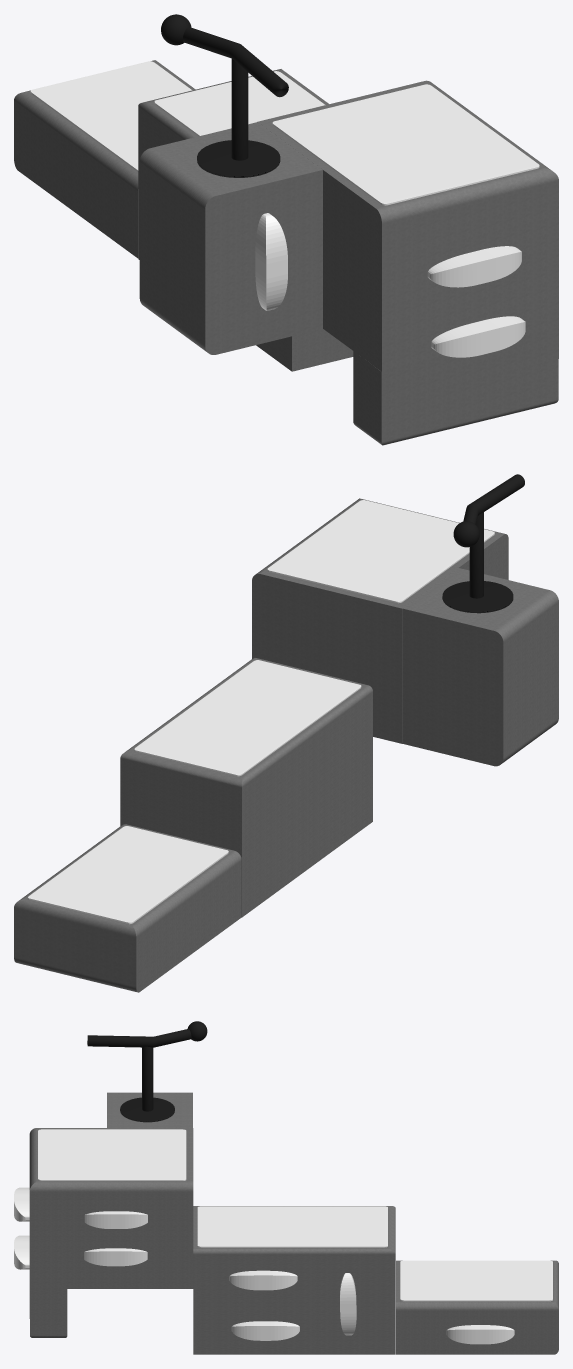
The model's file is VF appareil_tranfert_frozen-compressed.glb.
3 views of the same model, one above another, from view 1: azimuth 30°, elevation 25°; view 2: azimuth 150°, elevation 25°; view 3: azimuth 270°, elevation 25° (orthographic). The views are drawn at different scales.
Visible parts, largest first — view 1: Cube011, Cube013, Cube014, Cube012, Cube016, Cube010, Cube015, Cube025, Cube024, Cube026, Cylinder005, Cylinder006 (+2 smaller); view 2: Cube010, Cube013, Cube011, Cube012, Cube015, Cube014, Cube016, Cylinder005, Cylinder006, Cylinder004; view 3: Cube010, Cube011, Cube012, Cube015, Cube014, Cube016, Cube013, Cylinder006, Cube020, Cube021, Cube023, Cube018 (+6 smaller).
Boxes of the visible parts, box(x1,y1,x2,y2) form: Cube011: box(257, 80, 558, 445); Cube013: box(139, 122, 322, 354); Cube014: box(272, 84, 539, 205); Cube012: box(14, 60, 195, 258); Cube016: box(30, 61, 192, 171); Cube010: box(138, 69, 353, 371); Cube015: box(154, 71, 325, 136); Cube025: box(431, 316, 525, 357); Cube024: box(427, 246, 521, 287); Cube026: box(255, 213, 287, 310); Cylinder005: box(197, 140, 280, 177); Cylinder006: box(182, 27, 288, 97); Cube010: box(120, 658, 372, 917); Cube013: box(403, 568, 558, 766); Cube011: box(252, 498, 508, 743); Cube012: box(14, 824, 241, 992); Cube015: box(134, 660, 361, 776); Cube014: box(267, 500, 494, 603); Cube016: box(28, 826, 228, 924); Cylinder005: box(442, 581, 513, 613); Cylinder006: box(463, 474, 524, 524); Cylinder004: box(469, 512, 483, 598); Cube010: box(193, 1206, 395, 1354); Cube011: box(29, 1128, 193, 1337); Cube012: box(396, 1260, 558, 1354); Cube015: box(197, 1206, 387, 1247); Cube014: box(38, 1129, 186, 1180); Cube016: box(400, 1260, 552, 1301); Cube013: box(107, 1092, 192, 1127); Cylinder006: box(87, 1029, 191, 1047); Cube020: box(229, 1270, 297, 1290); Cube021: box(231, 1321, 299, 1340); Cube023: box(446, 1325, 514, 1344); Cube018: box(84, 1248, 147, 1266).
Bounding box in the file's own units: 4.08 × 4.8 × 9.46.
4 materials, 1 textured.
